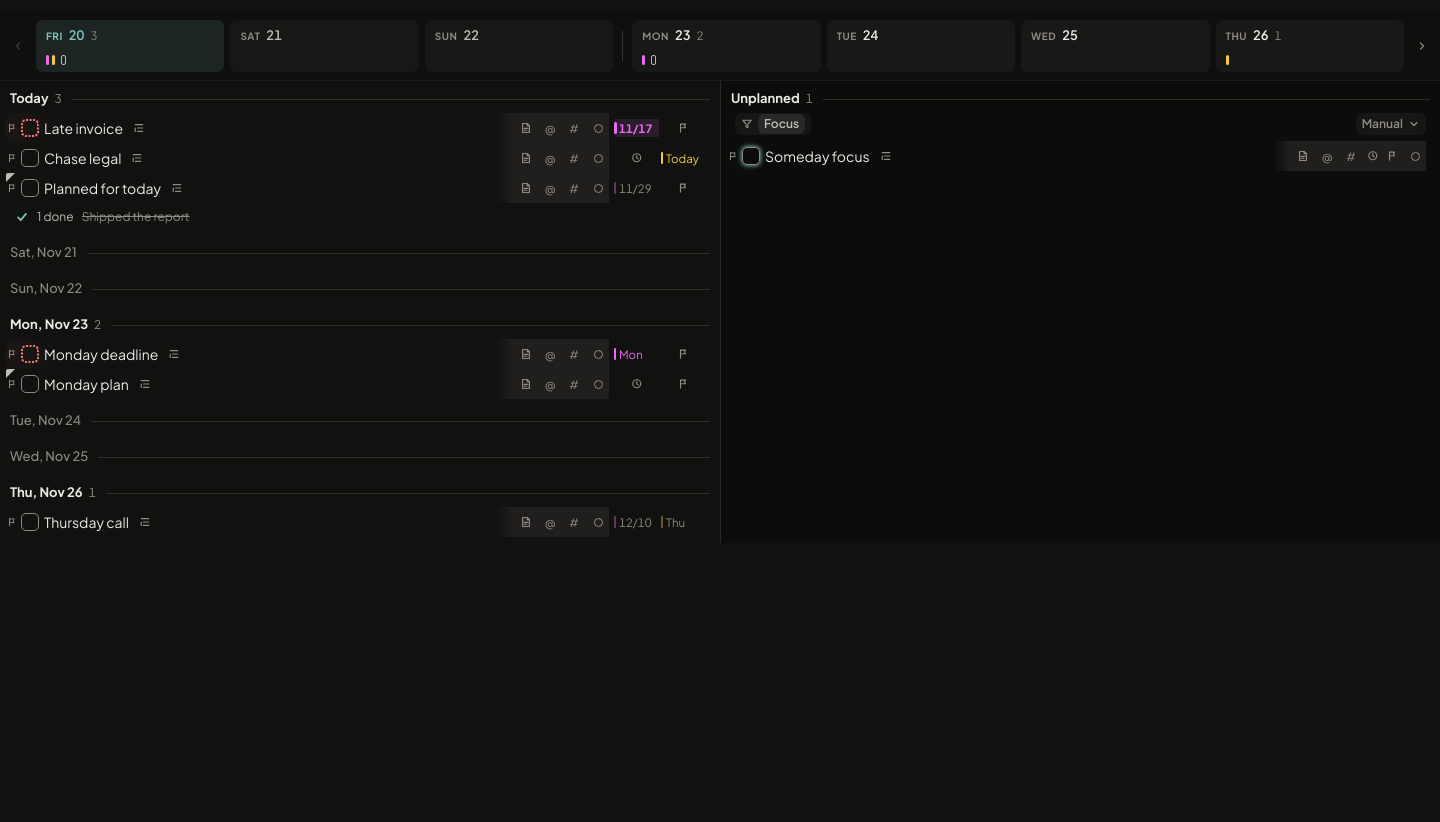
Scenario: the Planner — the strip › the arrows move the window a week; Today stays, and there is no week before this one
Expected: the button named "Previous week" is disabled, [6,20,30,72]
Click the button named "Next week" at [1422, 46], box [1410,20,1434,72]
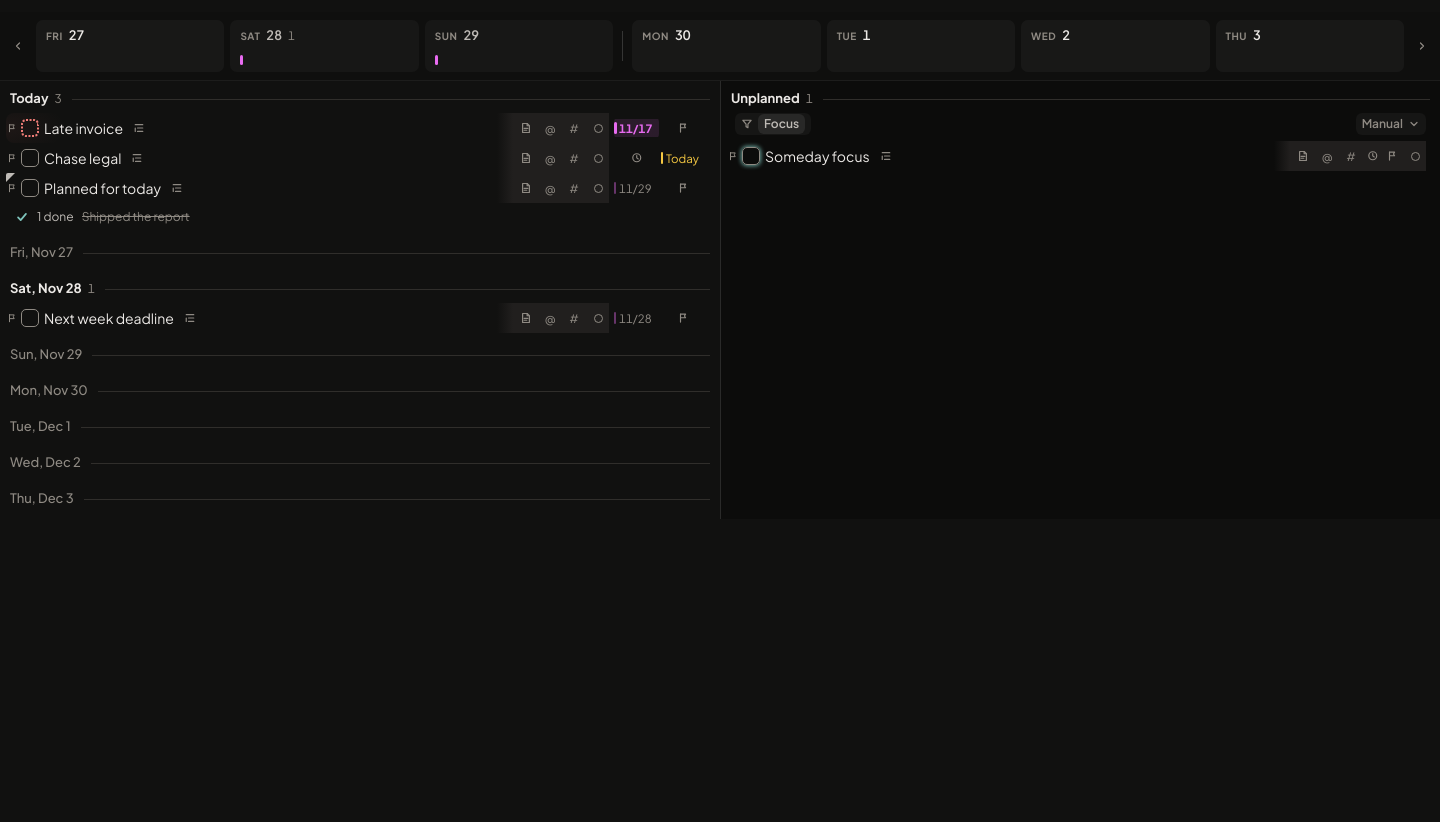
Now the element that starts with "Fri" no longer shows "Monday deadline"
Click the button named "Previous week" at [18, 46], box [6,20,30,72]
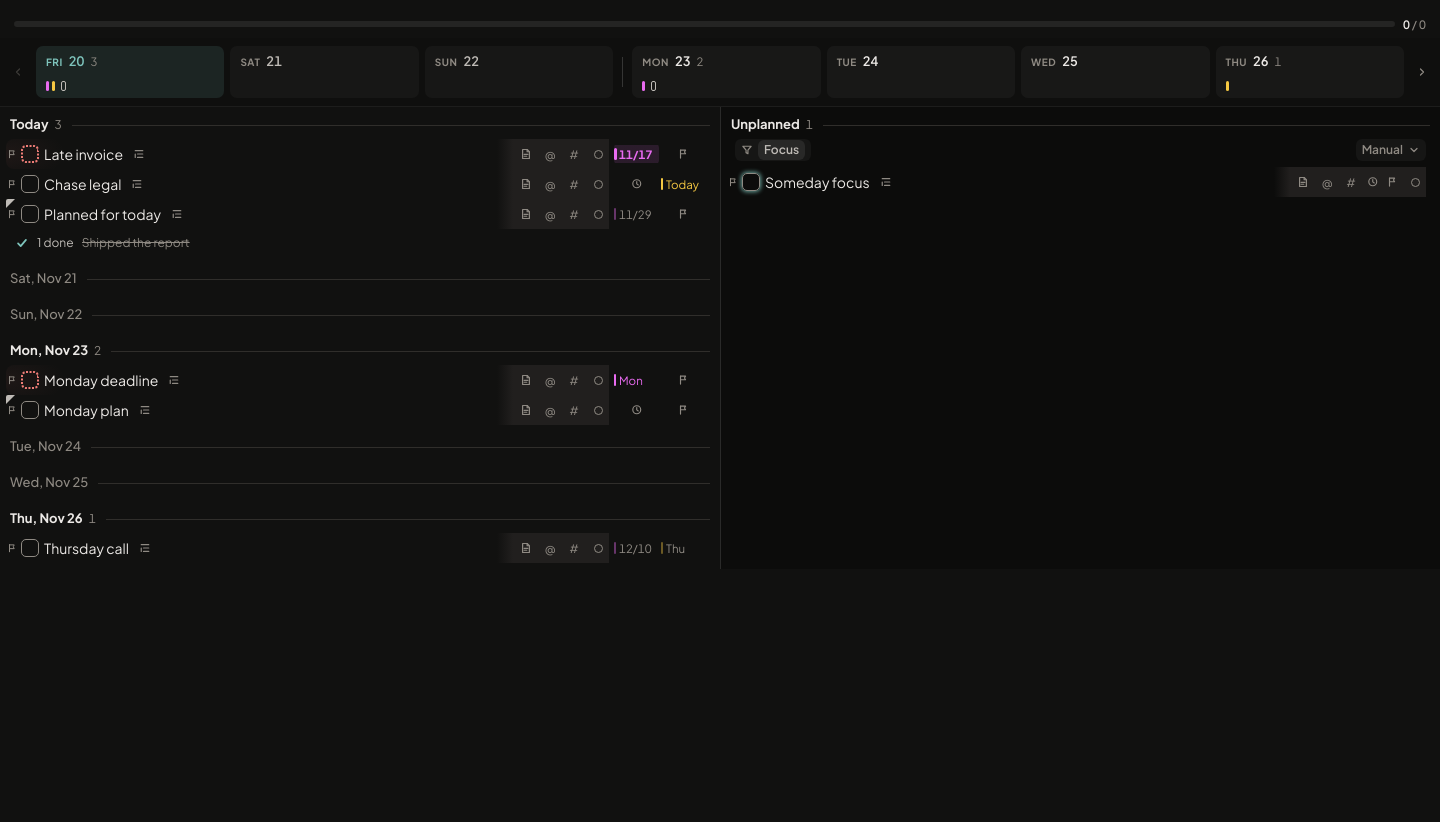
Now the button named "Previous week" is disabled, box [6,46,30,98]
